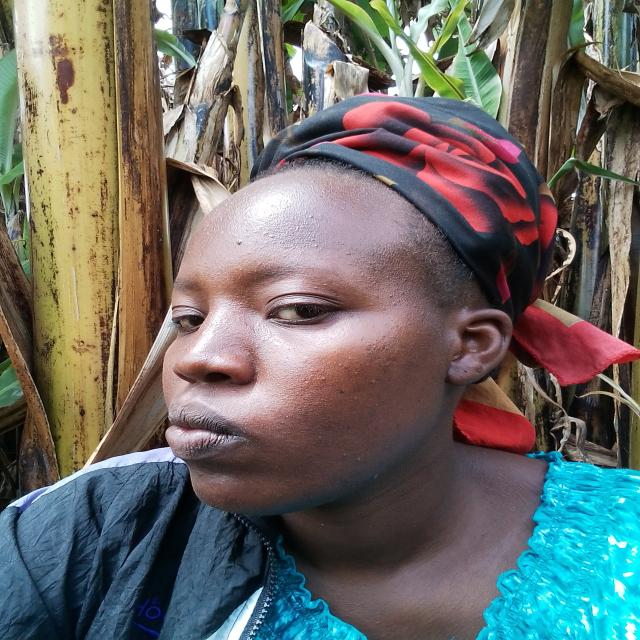Dry-Skin: (358, 246, 408, 282), (270, 218, 318, 252)
Englarged-Pores: (335, 356, 376, 382)
